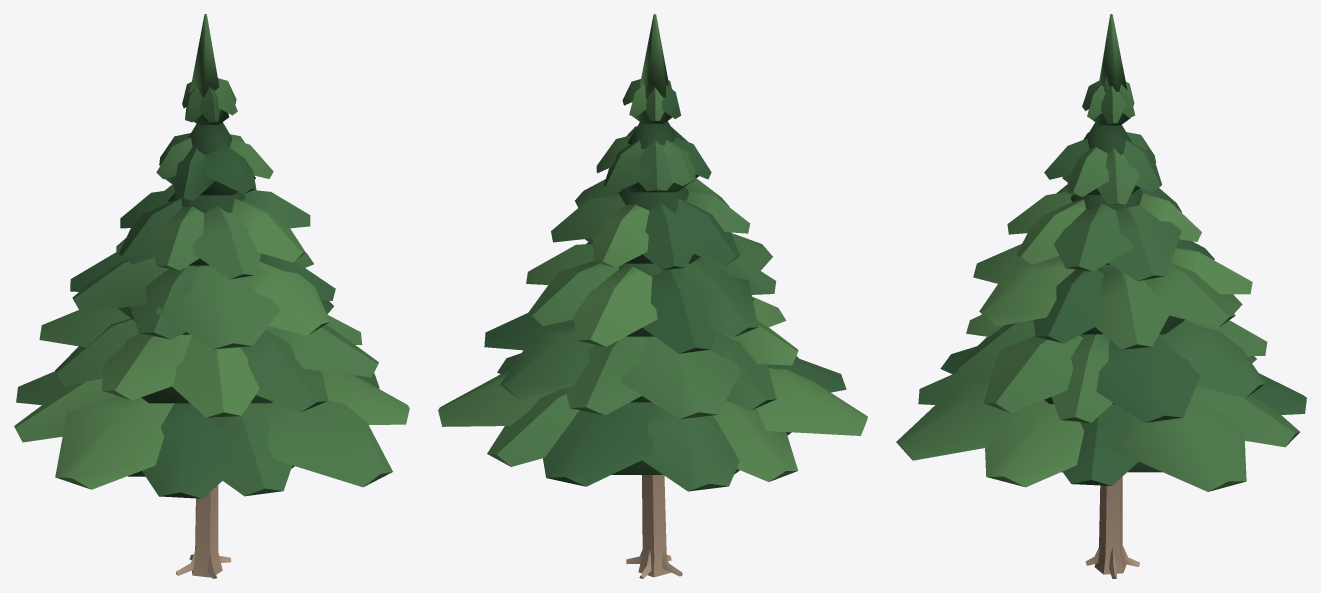
File: pine.far.glb
3 views of the same model, side by side, from view 1: azimuth 30°, elevation 25°; view 2: azimuth 150°, elevation 25°; view 3: azimuth 270°, elevation 25° (orthographic).
Parts seen in each view (by area): view 1: pine; view 2: pine; view 3: pine.
Boxes of the visible parts, box(x1,y1,x2,y2) form: pine: box(14, 14, 409, 578); pine: box(438, 14, 867, 578); pine: box(896, 14, 1306, 578).
Bounding box in the file's own units: 5.97 × 9.2 × 6.19.
